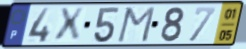4: (26, 6, 53, 45)
5: (92, 5, 121, 44)
7: (190, 5, 218, 43)
8: (159, 6, 187, 44)
M: (115, 5, 158, 44)
X: (53, 6, 87, 44)
